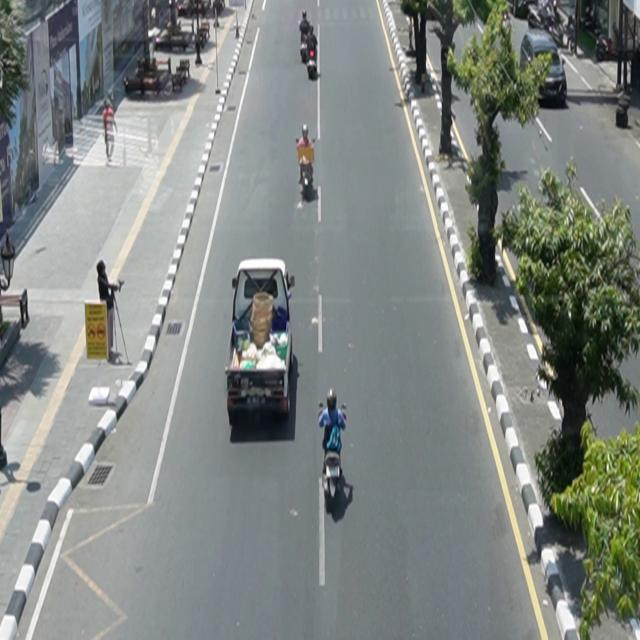car: (225, 257, 296, 426), (520, 30, 568, 107)
